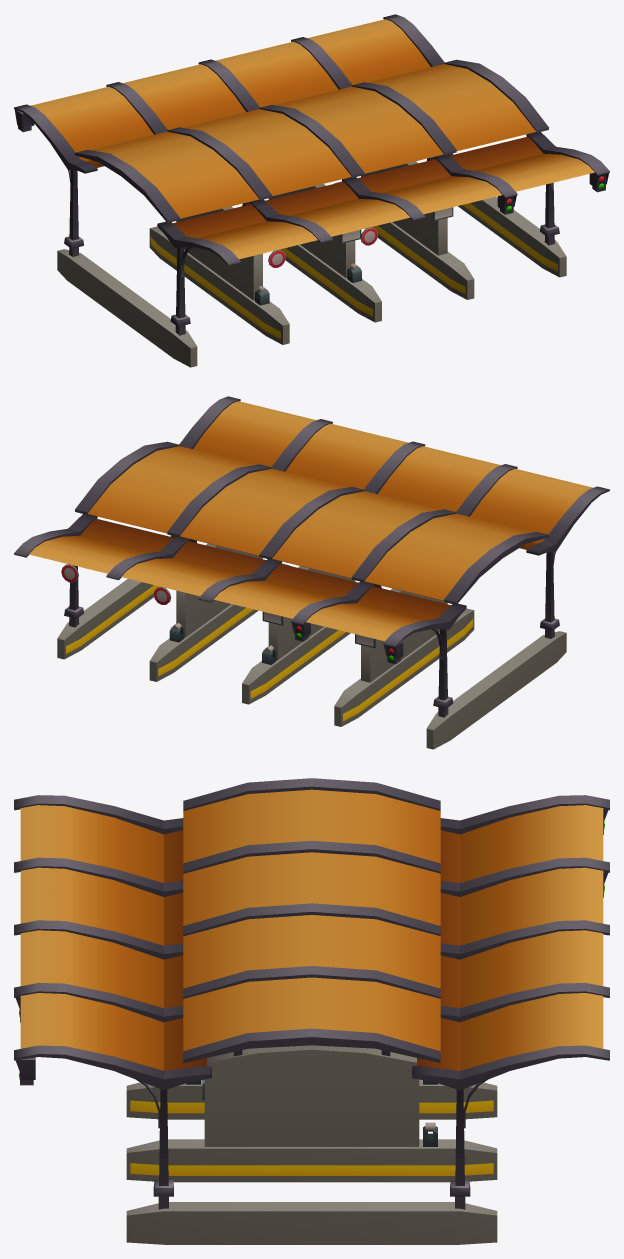
The model's file is Toll_Booth_1A.fbx.
3 renders of one model, top to bottom at view 1: azimuth 30°, elevation 25°; view 2: azimuth 150°, elevation 25°; view 3: azimuth 270°, elevation 25°, orthographic. The views are drawn at different scales.
Visible parts, largest first — view 1: Toll_Booth_1A; view 2: Toll_Booth_1A; view 3: Toll_Booth_1A.
Boxes of the visible parts, <box> form: Toll_Booth_1A: <box>14,14,609,367</box>; Toll_Booth_1A: <box>14,396,609,749</box>; Toll_Booth_1A: <box>14,778,609,1244</box>.
Bounding box in the file's own units: 1660 × 618 × 1609.
